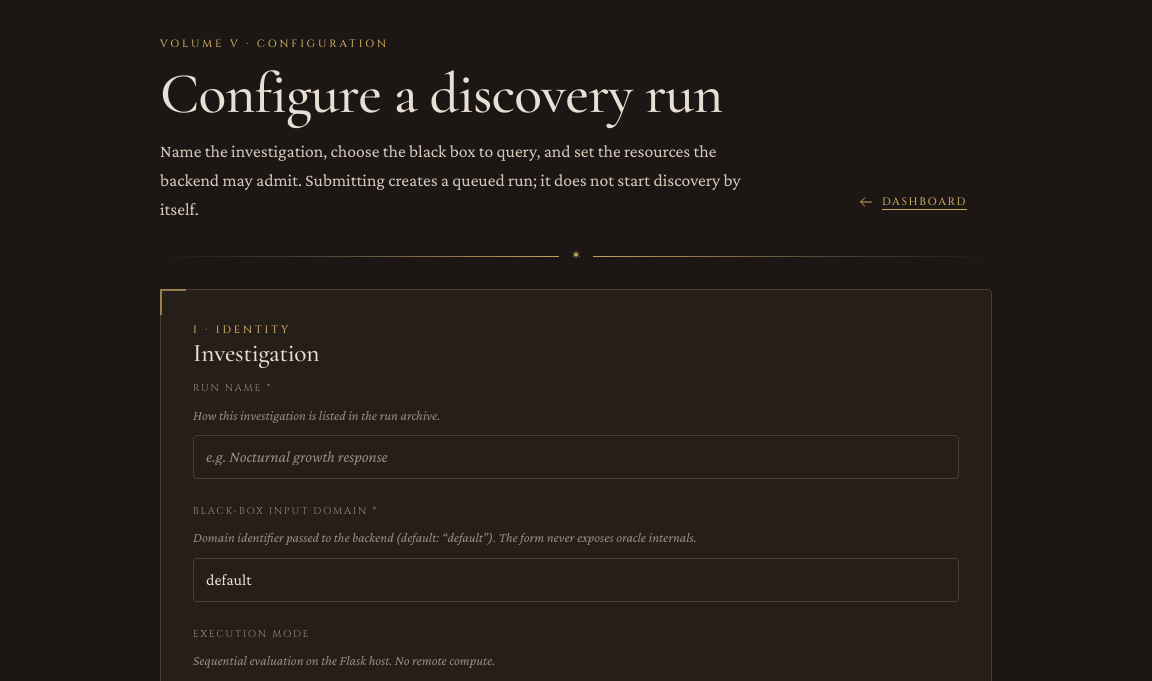
Test: CreateRunPage › does not retry blindly when creation times out
Step 1. Type "Nocturnal growth response" into the field labelled "Run name *" → (576, 457), box [193, 435, 959, 479]
(page scrolled)
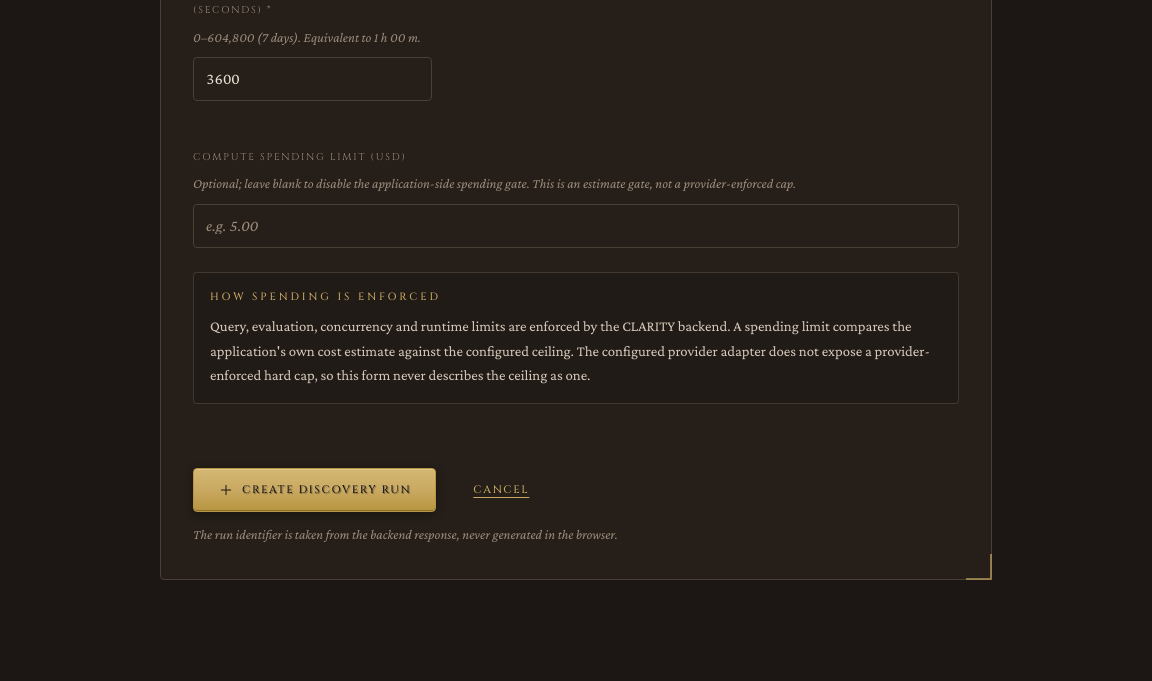
Step 2. Click the button "Create discovery run" → click(315, 490), box [193, 468, 436, 512]
(page scrolled)
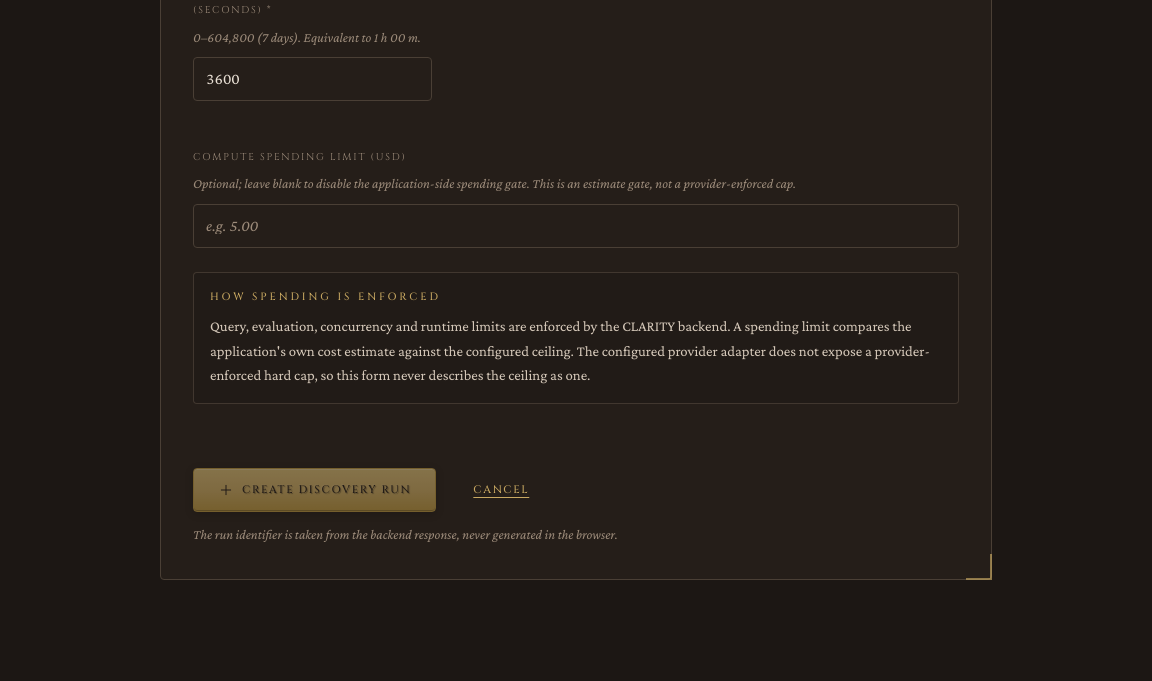
Result: the button "Create discovery run" is disabled at [193, 468, 436, 512]
